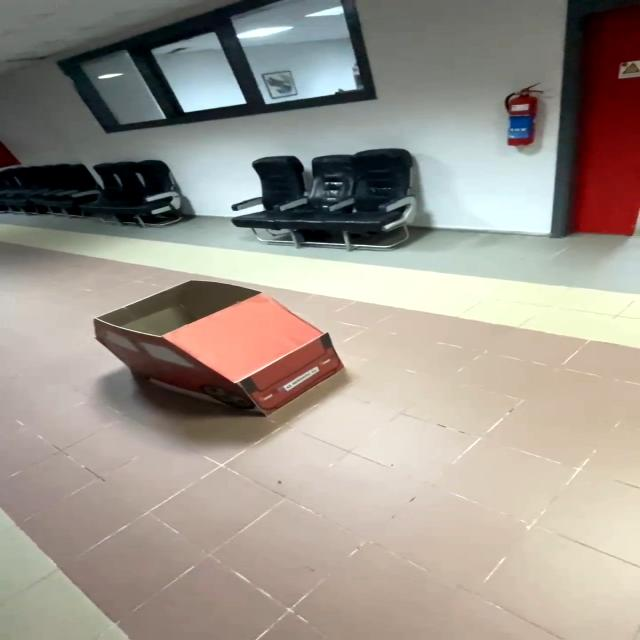red_car: (54, 262, 427, 449)
